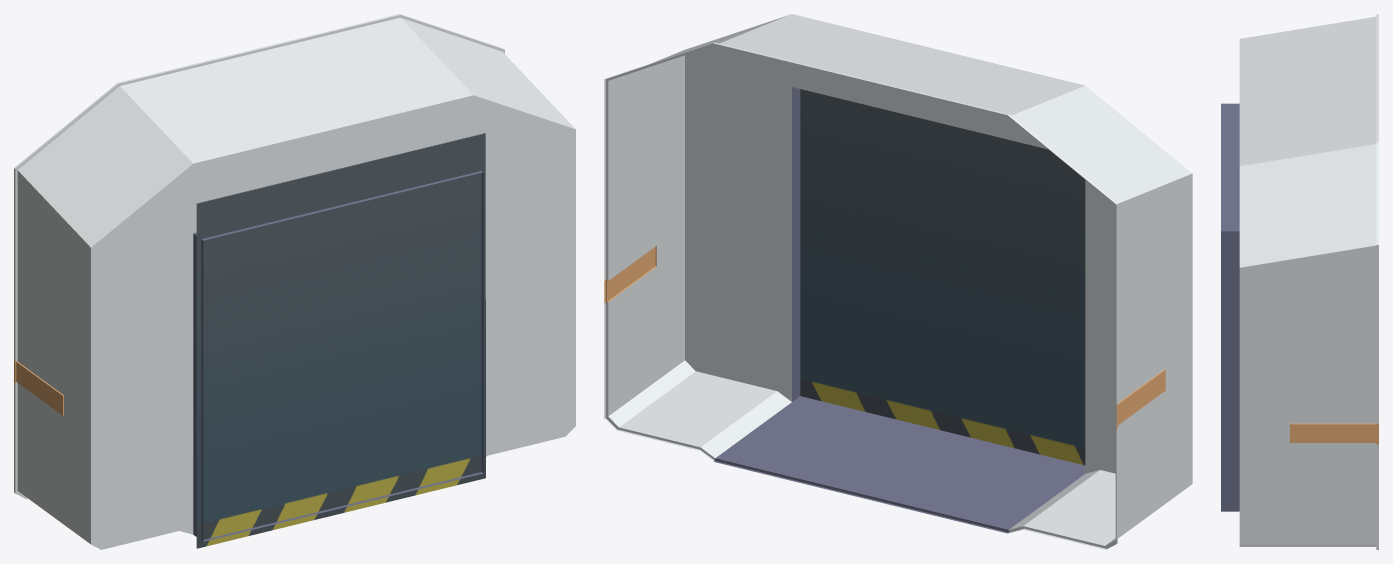
Rendered from HangarGate.fbx.
3 views of the same model, side by side, from view 1: azimuth 30°, elevation 25°; view 2: azimuth 150°, elevation 25°; view 3: azimuth 270°, elevation 25° (orthographic). The views are drawn at different scales.
Visible parts, largest first — view 1: HangarHallGate; view 2: HangarHallGate; view 3: HangarHallGate.
Boxes of the visible parts, <box> form: HangarHallGate: <box>14,14,575,549</box>; HangarHallGate: <box>604,14,1192,549</box>; HangarHallGate: <box>1221,14,1378,549</box>.
Bounding box in the file's own units: 8.61 × 6.81 × 2.58.
